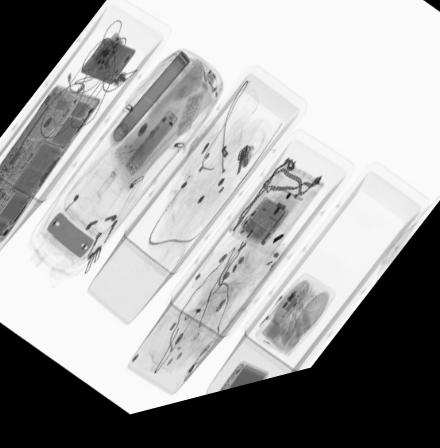Powerbank: (216, 370, 270, 403)
